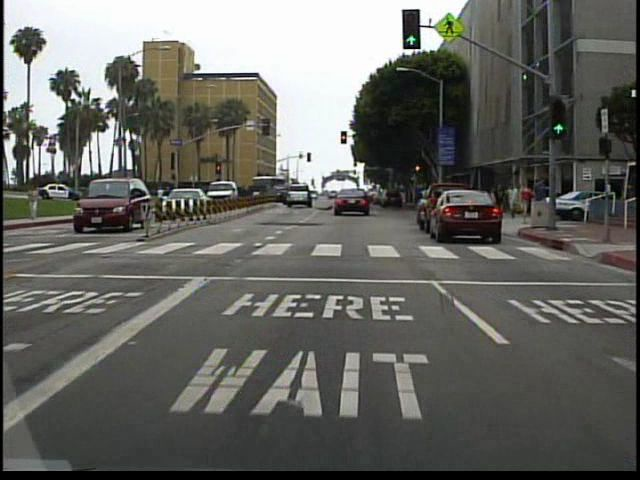person: (533, 175, 550, 223), (29, 181, 47, 221), (516, 183, 533, 225), (506, 181, 520, 222)
